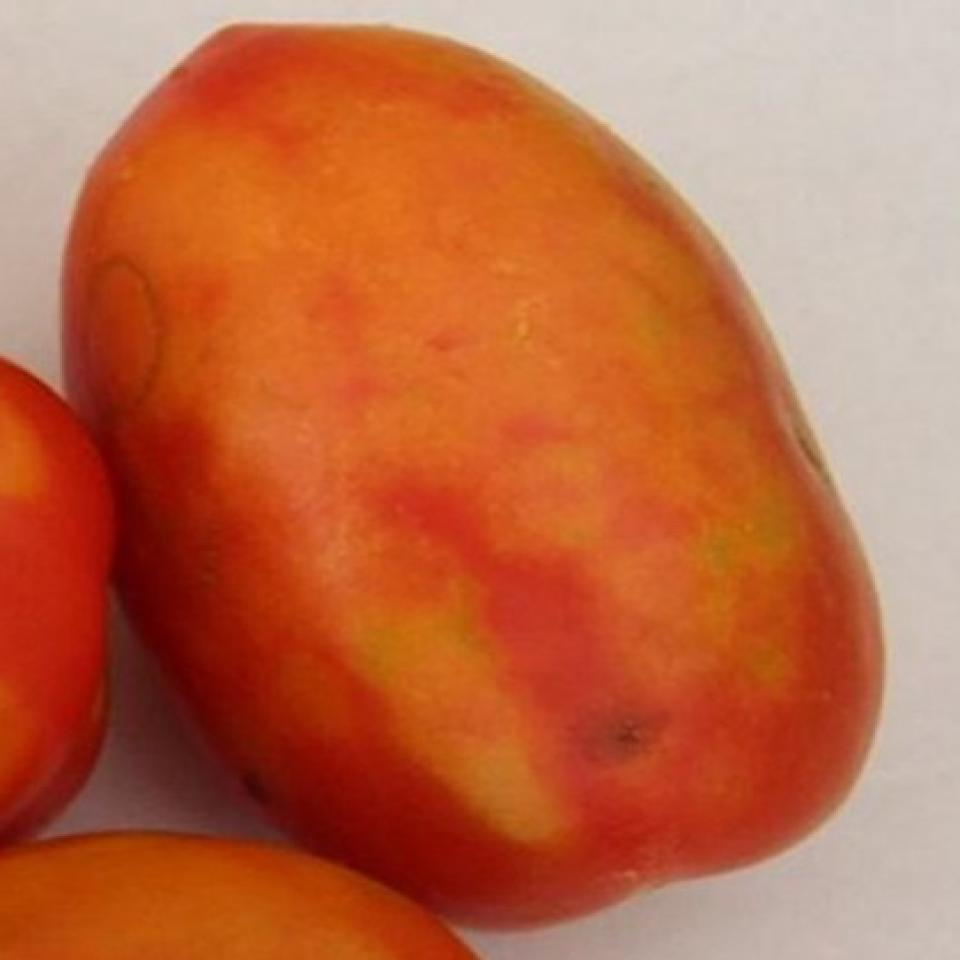Spotted wilt Virus: (54, 20, 886, 937)
